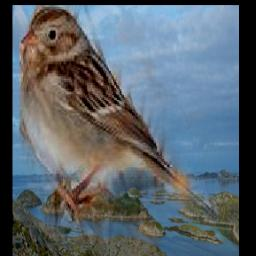Sparrow: (19, 5, 239, 244)
